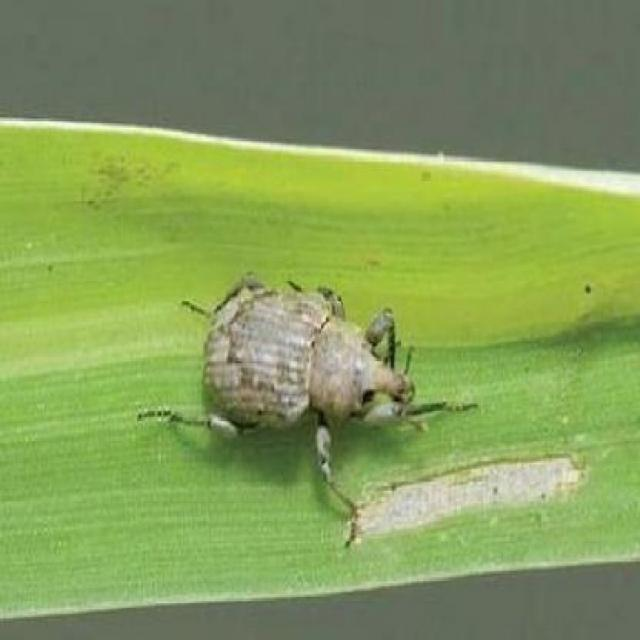rice-bug: (161, 274, 417, 517)
